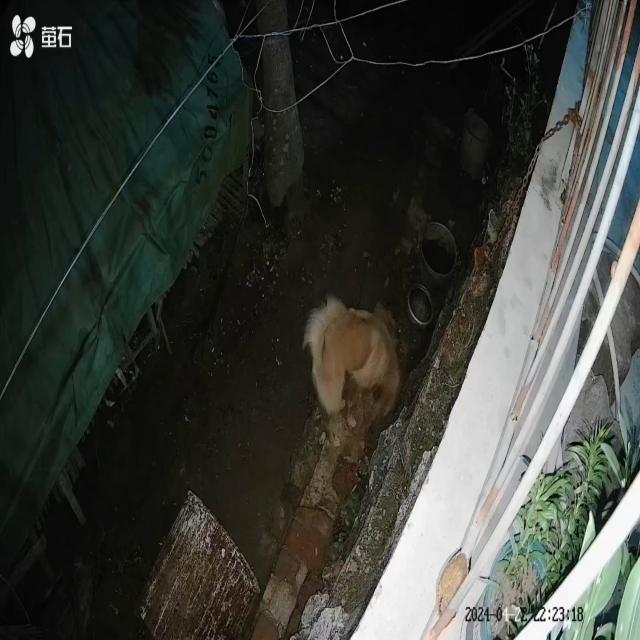dog: (303, 295, 403, 430)
